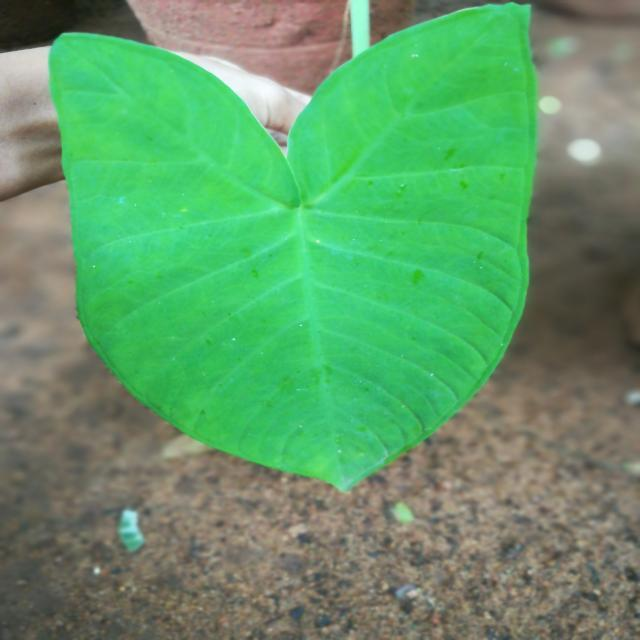leaf: (47, 0, 540, 493)
